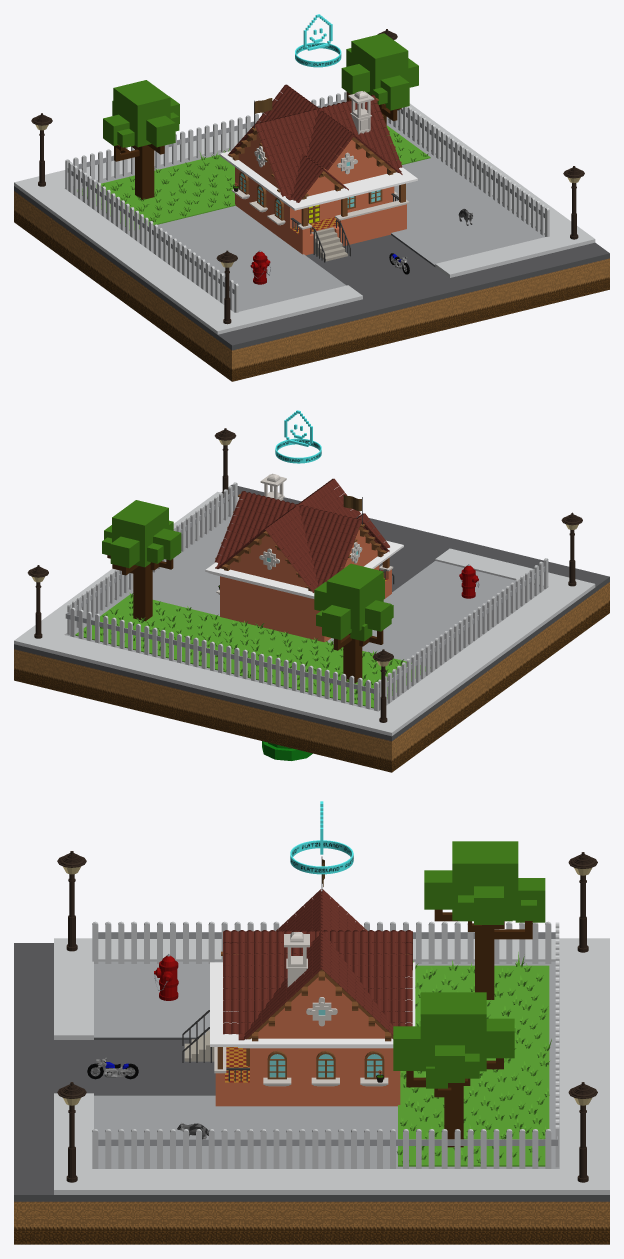
3 renders of one model, top to bottom at view 1: azimuth 30°, elevation 25°; view 2: azimuth 150°, elevation 25°; view 3: azimuth 270°, elevation 25°, orthographic. The views are drawn at different scales.
Parts seen in each view (by area): view 1: Cube.004, Cube.1141, TYPE_PREMIUM, OBJRANDOM_FIRE_HYDRANT; view 2: Cube.004, Cube.1141, TYPE_PREMIUM, UNDERGROUND_PIPES, OBJRANDOM_FIRE_HYDRANT; view 3: Cube.004, Cube.1141, TYPE_PREMIUM, OBJRANDOM_FIRE_HYDRANT, VEHICLES_CHOPPER.
Part boxes in pixels (x1,y1,x2,y2): Cube.004: (14,29,609,381); Cube.1141: (219,84,417,262); TYPE_PREMIUM: (295,14,341,67); OBJRANDOM_FIRE_HYDRANT: (250,250,270,284); Cube.004: (14,428,609,772); Cube.1141: (205,473,403,642); TYPE_PREMIUM: (275,410,321,463); UNDERGROUND_PIPES: (262,741,312,760); OBJRANDOM_FIRE_HYDRANT: (459,564,479,598); Cube.004: (14,841,609,1244); Cube.1141: (182,856,415,1106); TYPE_PREMIUM: (290,801,353,874); OBJRANDOM_FIRE_HYDRANT: (154,954,178,1000); VEHICLES_CHOPPER: (87,1057,138,1079).
Size of the model in its own units: 4000 by 3050 by 4000.
37 materials, 4 textured.
